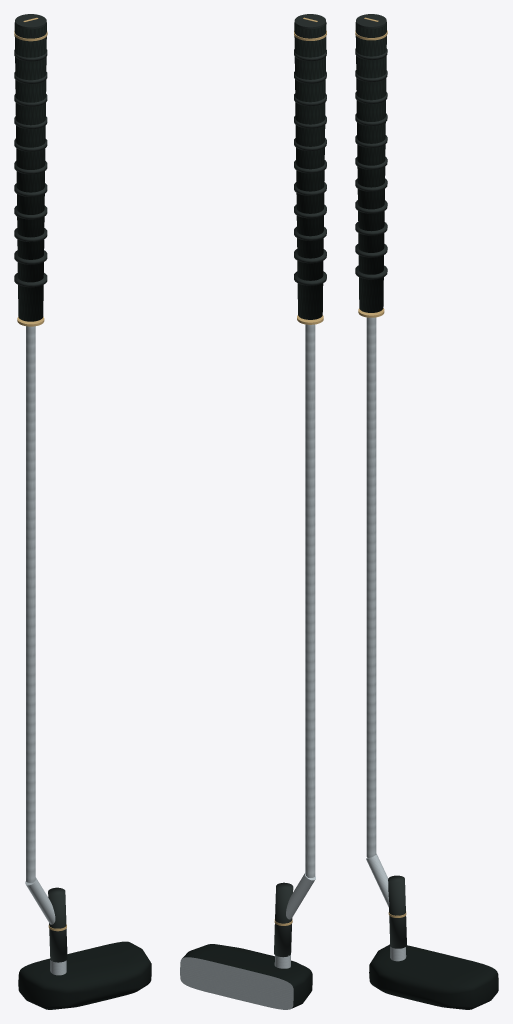
File: putter.glb
3 renders of one model, left to right at view 1: azimuth 30°, elevation 25°; view 2: azimuth 150°, elevation 25°; view 3: azimuth 330°, elevation 25°, orthographic. The views are drawn at different scales.
Parts seen in each view (by area): view 1: putter grip.004, putter finished head.003, putter concentric shaft, Ferrule.012, Hosel transition.002, Butt cap.011; view 2: putter grip.004, putter concentric shaft, putter finished head.003, Ferrule.012, Hosel transition.002, Butt cap.011; view 3: putter grip.004, putter finished head.003, putter concentric shaft, Ferrule.012, Hosel transition.002, Butt cap.011.
Boxes of the visible parts, x1,y1,x2,y2 form: putter grip.004: (14,22,46,321); putter finished head.003: (18,941,151,1009); putter concentric shaft: (26,326,35,882); Ferrule.012: (48,887,67,962); Hosel transition.002: (25,877,55,924); Butt cap.011: (15,14,46,29); putter grip.004: (294,22,326,319); putter concentric shaft: (305,324,315,877); putter finished head.003: (180,944,312,1009); Ferrule.012: (274,882,293,957); Hosel transition.002: (286,873,315,919); Butt cap.011: (294,14,325,29); putter grip.004: (355,22,386,312); putter finished head.003: (369,944,498,1009); putter concentric shaft: (366,317,376,857); Ferrule.012: (388,875,406,948); Hosel transition.002: (366,854,389,907); Butt cap.011: (356,14,386,28).
Bounding box in the file's own units: 0.1235 × 0.8771 × 0.0476.
Materials: 5 (3 with a texture image).
